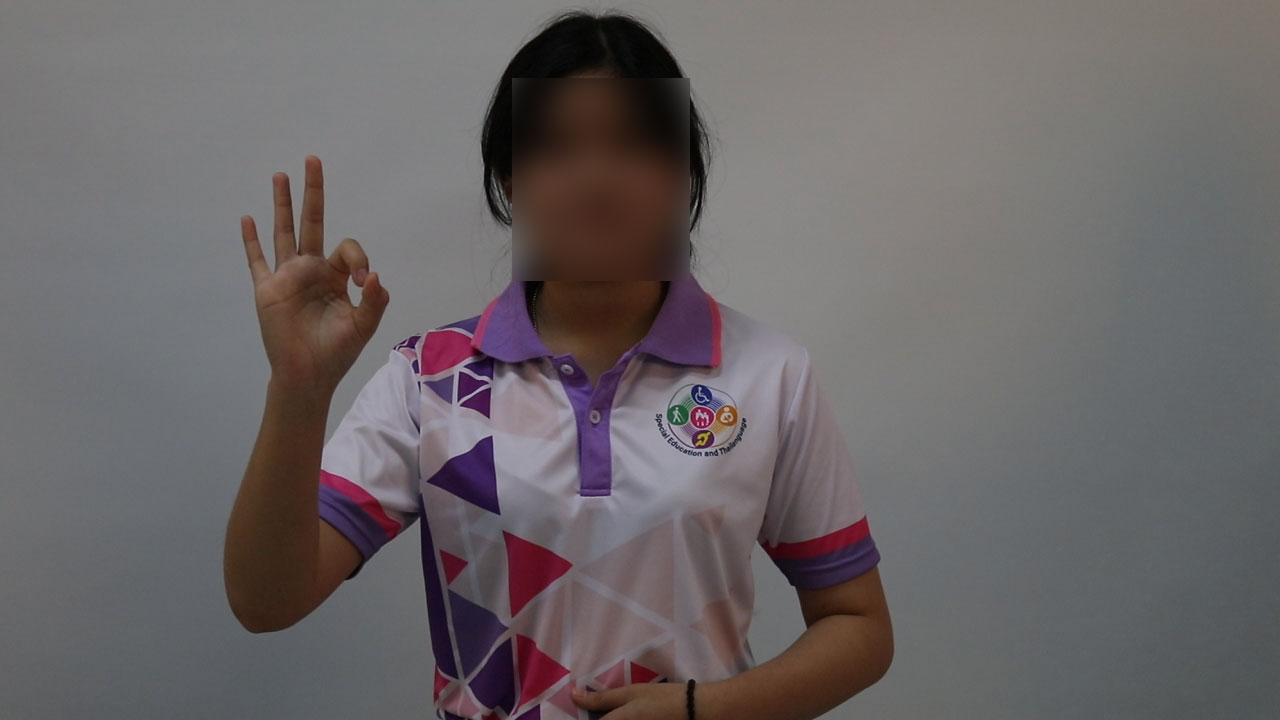for: (234, 145, 395, 399)
